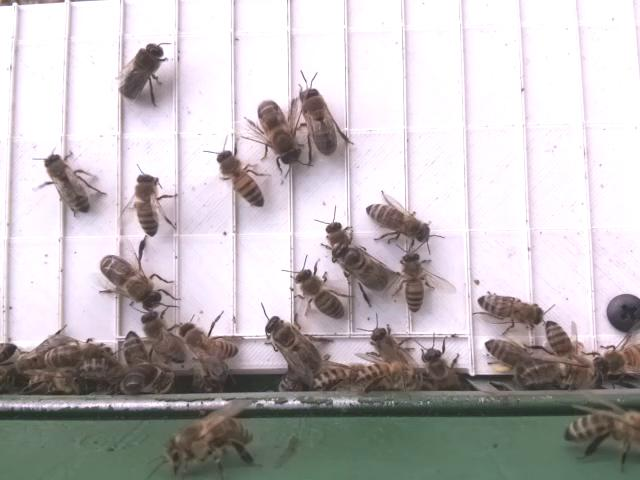Drone: (261, 313, 326, 378), (98, 252, 166, 313), (114, 40, 177, 104), (255, 97, 305, 167), (329, 241, 392, 295), (298, 85, 343, 159)
Worker: (361, 197, 434, 246), (40, 151, 93, 216), (292, 266, 350, 323), (179, 319, 244, 369), (216, 148, 267, 211), (136, 305, 186, 365), (474, 290, 543, 331), (132, 170, 167, 240), (481, 336, 542, 373), (544, 318, 584, 372), (39, 341, 111, 370), (351, 359, 417, 390), (400, 250, 430, 312)
